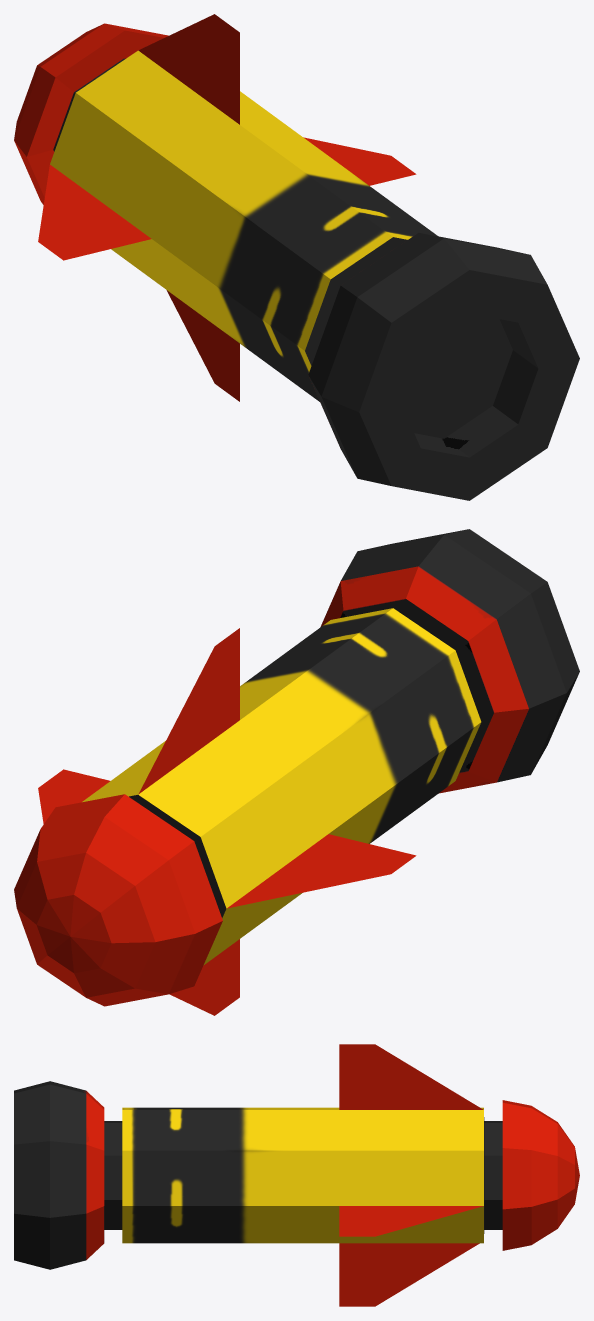
The model's file is Rocket.glb.
The picture shows the model from 3 angles, top to bottom: view 1: azimuth 30°, elevation 25°; view 2: azimuth 150°, elevation 25°; view 3: azimuth 270°, elevation 25°; orthographic projection. The views are drawn at different scales.
Visible parts, largest first — view 1: Cylinder; view 2: Cylinder; view 3: Cylinder.
Part boxes in pixels (x1=…): Cylinder: x1=14, y1=14, x2=579, y2=500; Cylinder: x1=14, y1=529, x2=579, y2=1015; Cylinder: x1=14, y1=1044, x2=579, y2=1306.
Bounding box in the file's own units: 0.8 × 0.8 × 1.57.
1 material, 1 textured.
